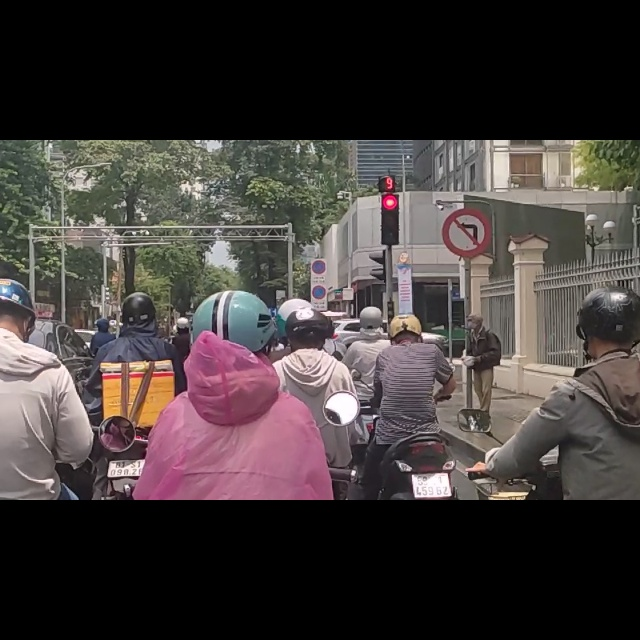bien_cam: (442, 116, 492, 211), (311, 256, 327, 283), (311, 212, 326, 239)
